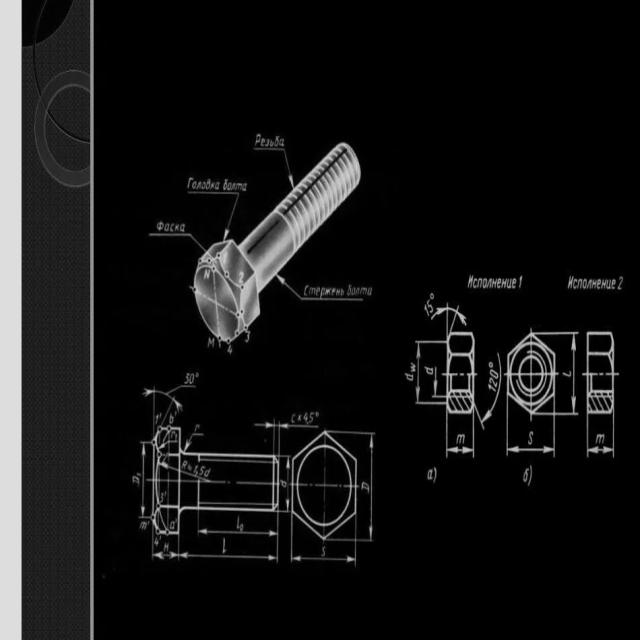marking_line: (185, 175, 241, 239), (176, 536, 279, 565), (277, 276, 381, 303), (253, 129, 295, 188), (413, 339, 447, 406), (194, 513, 280, 538), (475, 351, 502, 430), (556, 331, 580, 417), (507, 416, 557, 457), (358, 431, 375, 544), (290, 540, 358, 567), (142, 387, 186, 424), (144, 225, 204, 251), (444, 415, 476, 460), (585, 415, 616, 458), (432, 303, 468, 331), (139, 441, 150, 520), (149, 535, 181, 562), (459, 414, 478, 459), (599, 415, 616, 459), (444, 414, 460, 460), (254, 419, 275, 452), (279, 454, 290, 512), (431, 363, 446, 399), (281, 423, 320, 435), (184, 432, 204, 453), (164, 386, 196, 399), (160, 460, 178, 474)
numeric: (526, 428, 534, 445), (424, 364, 435, 376), (489, 367, 499, 380), (521, 466, 529, 482), (456, 433, 466, 444), (403, 371, 413, 382), (362, 479, 369, 494), (617, 276, 624, 291), (487, 384, 497, 394), (596, 434, 605, 445), (427, 468, 434, 482), (131, 475, 140, 485), (427, 300, 433, 315), (424, 305, 430, 319), (204, 467, 212, 477), (207, 338, 215, 348), (519, 274, 524, 290), (309, 411, 315, 424), (245, 331, 252, 342), (222, 536, 226, 555), (189, 372, 195, 384), (139, 521, 147, 530), (163, 541, 169, 553), (236, 515, 241, 529), (198, 465, 205, 475), (280, 479, 287, 489), (409, 363, 416, 373), (320, 546, 326, 557), (303, 411, 308, 424), (228, 343, 233, 356), (490, 378, 498, 386), (184, 372, 189, 384), (168, 413, 174, 423), (194, 422, 200, 431), (193, 464, 198, 474), (291, 413, 296, 423), (160, 492, 164, 504), (155, 413, 159, 424), (136, 472, 142, 477), (196, 372, 199, 378)
special_symbol: (431, 293, 436, 300), (488, 361, 493, 368)
